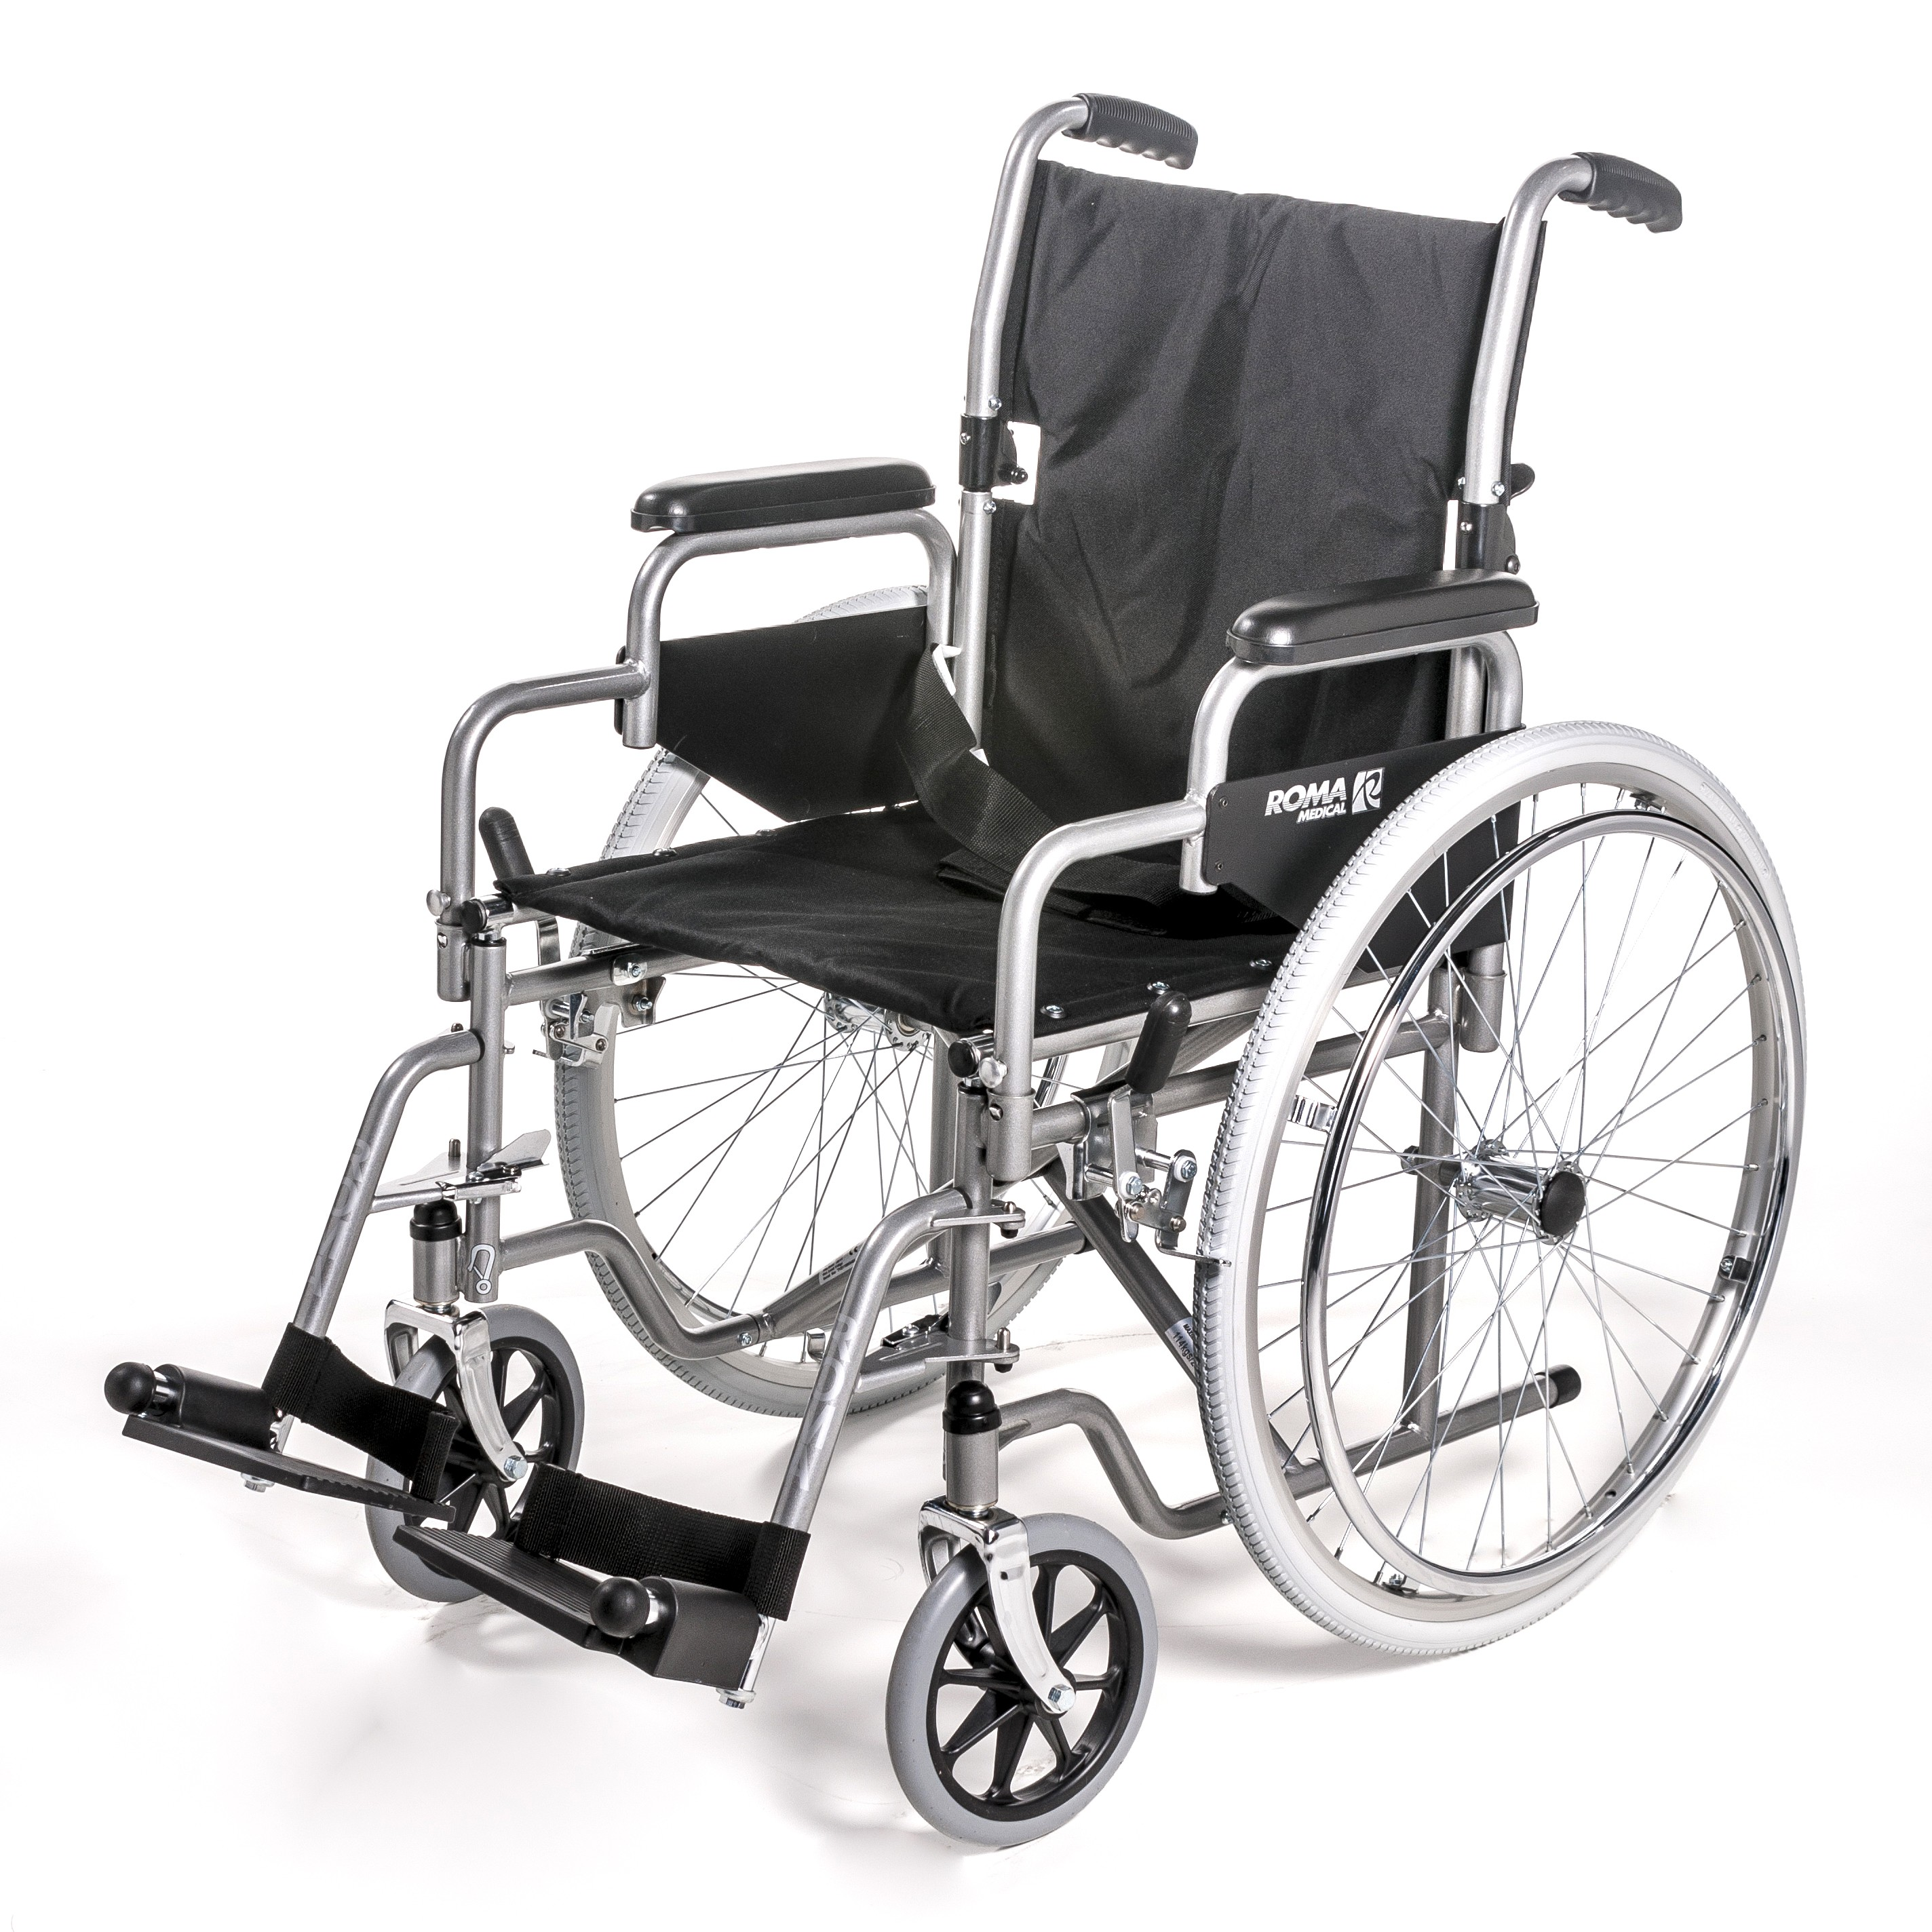wheelchair: (106, 78, 1808, 1822)
